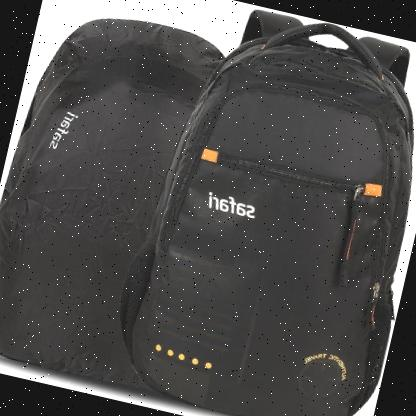bag: (97, 0, 416, 416), (0, 0, 250, 399)
